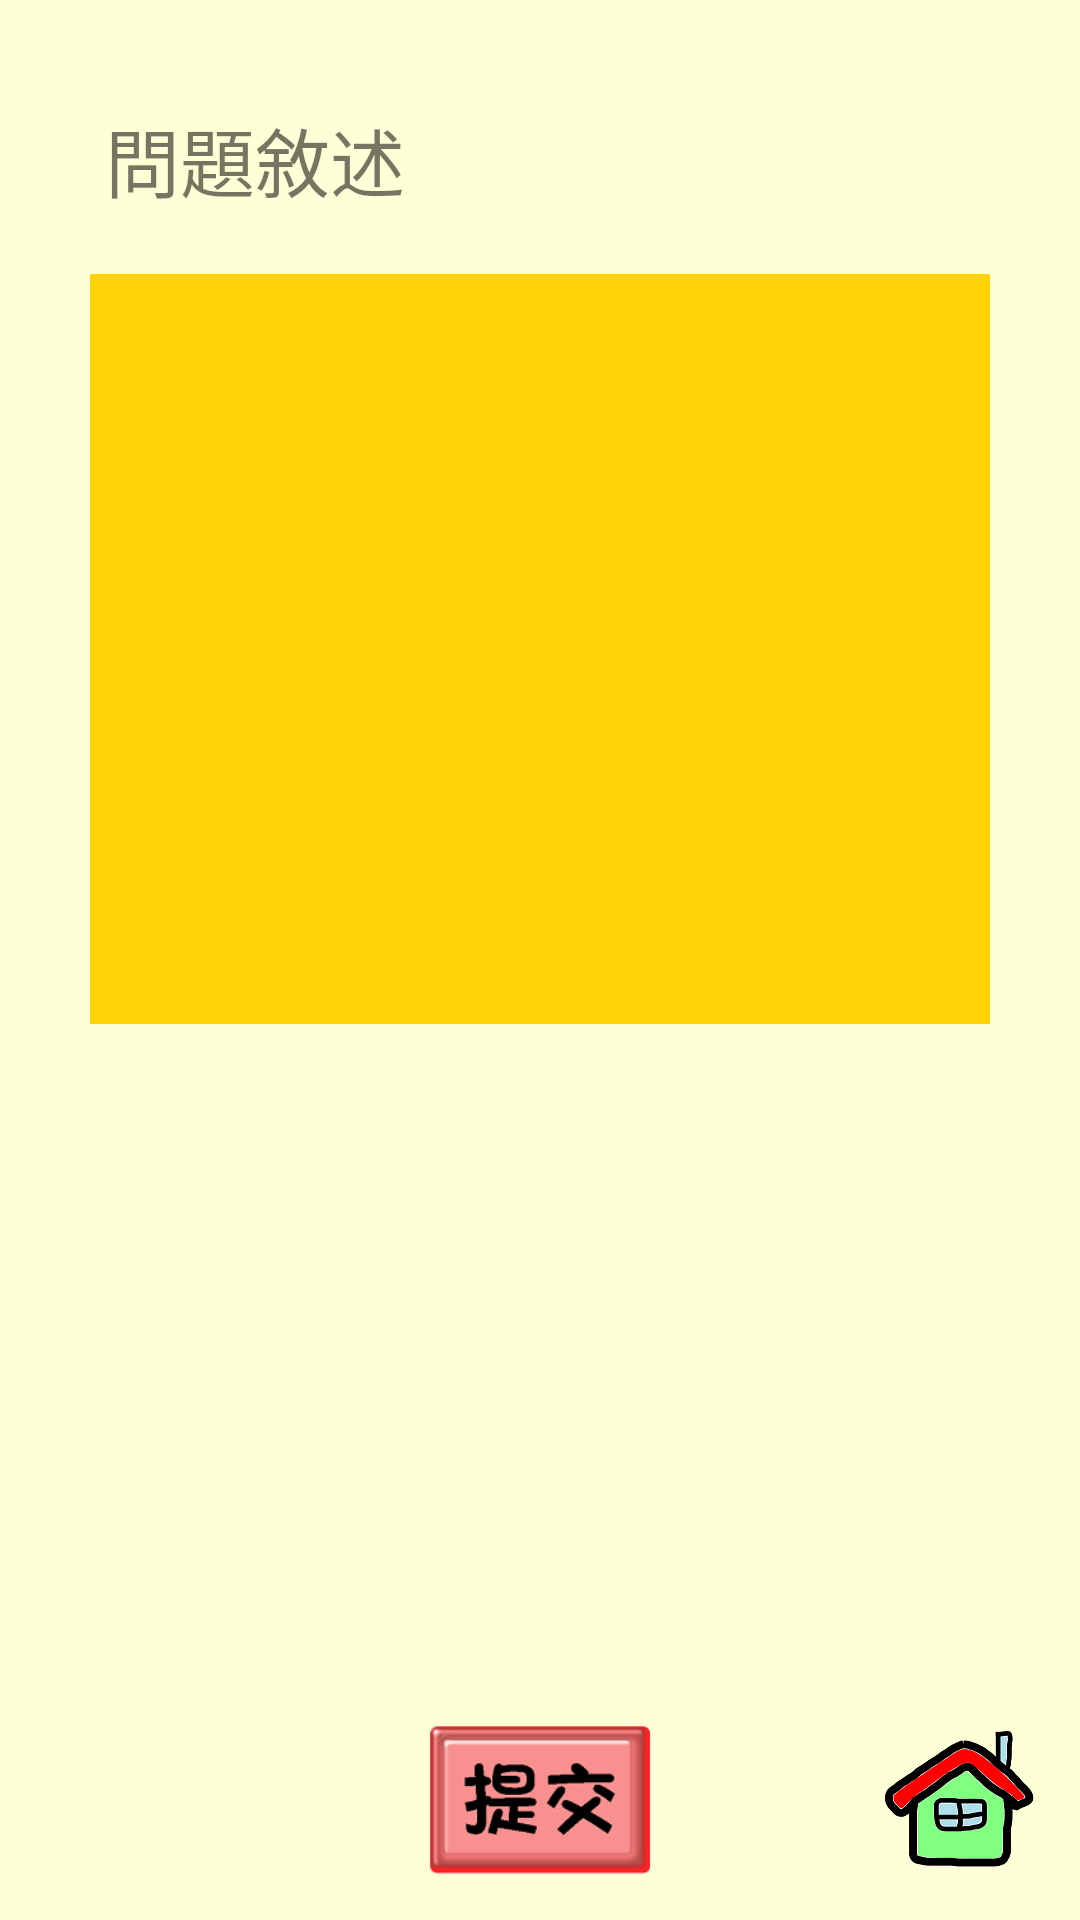

Icon click points for this 1080×1920 phone screenshot, format (x,y):
home: (959,1799)
